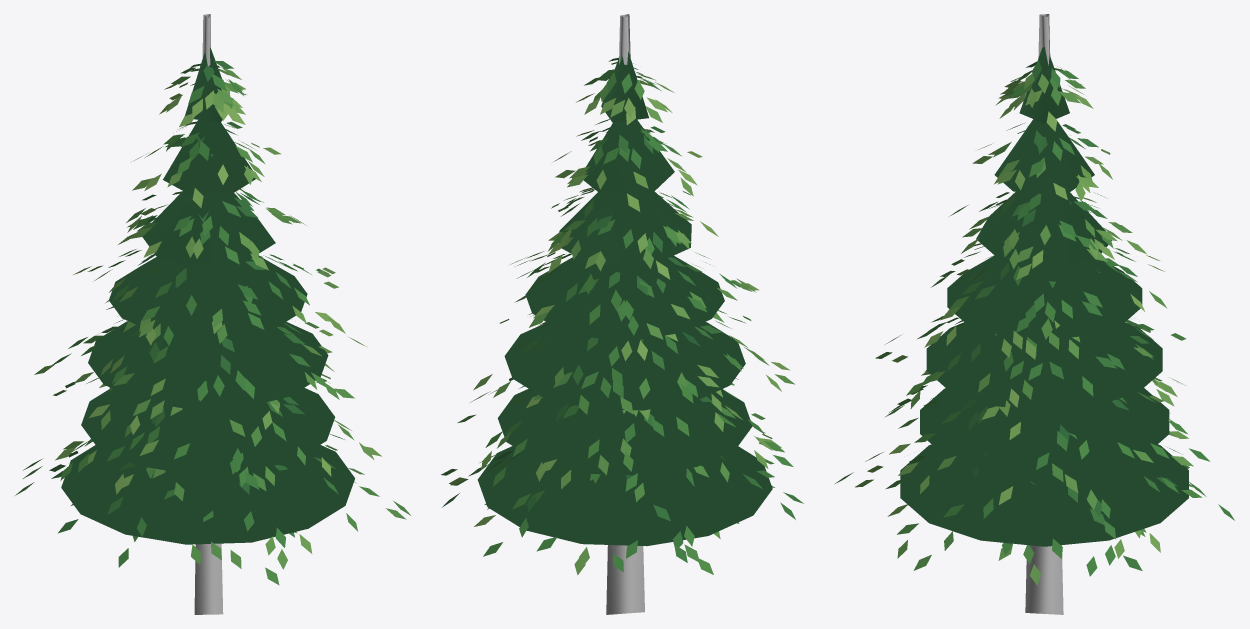
Rendered from t_pine1.fbx.
The picture shows the model from 3 angles, left to right: view 1: azimuth 30°, elevation 25°; view 2: azimuth 150°, elevation 25°; view 3: azimuth 270°, elevation 25°; orthographic projection.
Visible parts, largest first — view 1: model; view 2: model; view 3: model.
Part boxes in pixels (x1,y1,x2,y2): model: (15, 14, 410, 614); model: (441, 14, 803, 614); model: (835, 14, 1234, 614).
Bounding box in the file's own units: 0.6714 × 1.18 × 0.7229.
